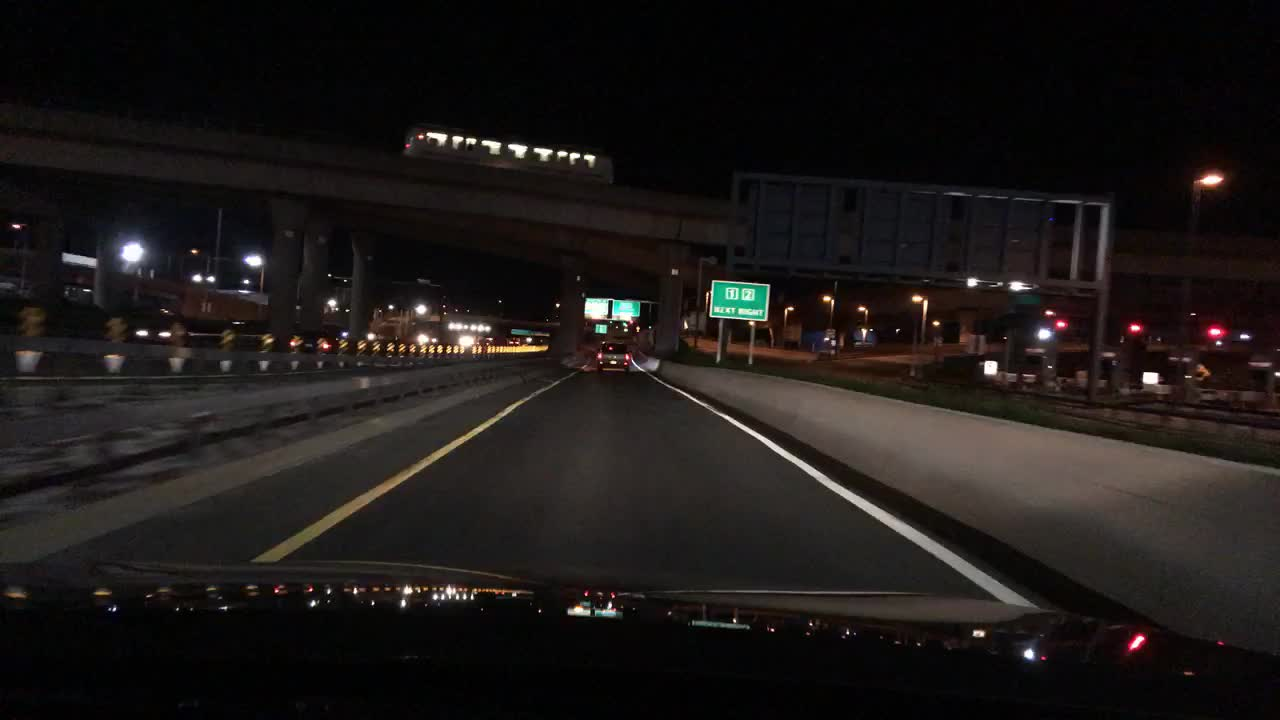car: (118, 307, 189, 347), (597, 339, 630, 376), (336, 324, 381, 346), (457, 329, 489, 346), (410, 334, 438, 346)
traffic light: (1124, 320, 1144, 341), (1203, 320, 1220, 341), (1051, 315, 1068, 334)
traffic sign: (854, 180, 948, 273), (742, 175, 838, 265), (962, 194, 1044, 273), (712, 275, 768, 320), (611, 295, 639, 314), (1015, 293, 1044, 307), (584, 297, 607, 314), (508, 329, 531, 338), (594, 320, 607, 334)
truck: (936, 354, 1000, 380), (1113, 366, 1159, 391)
